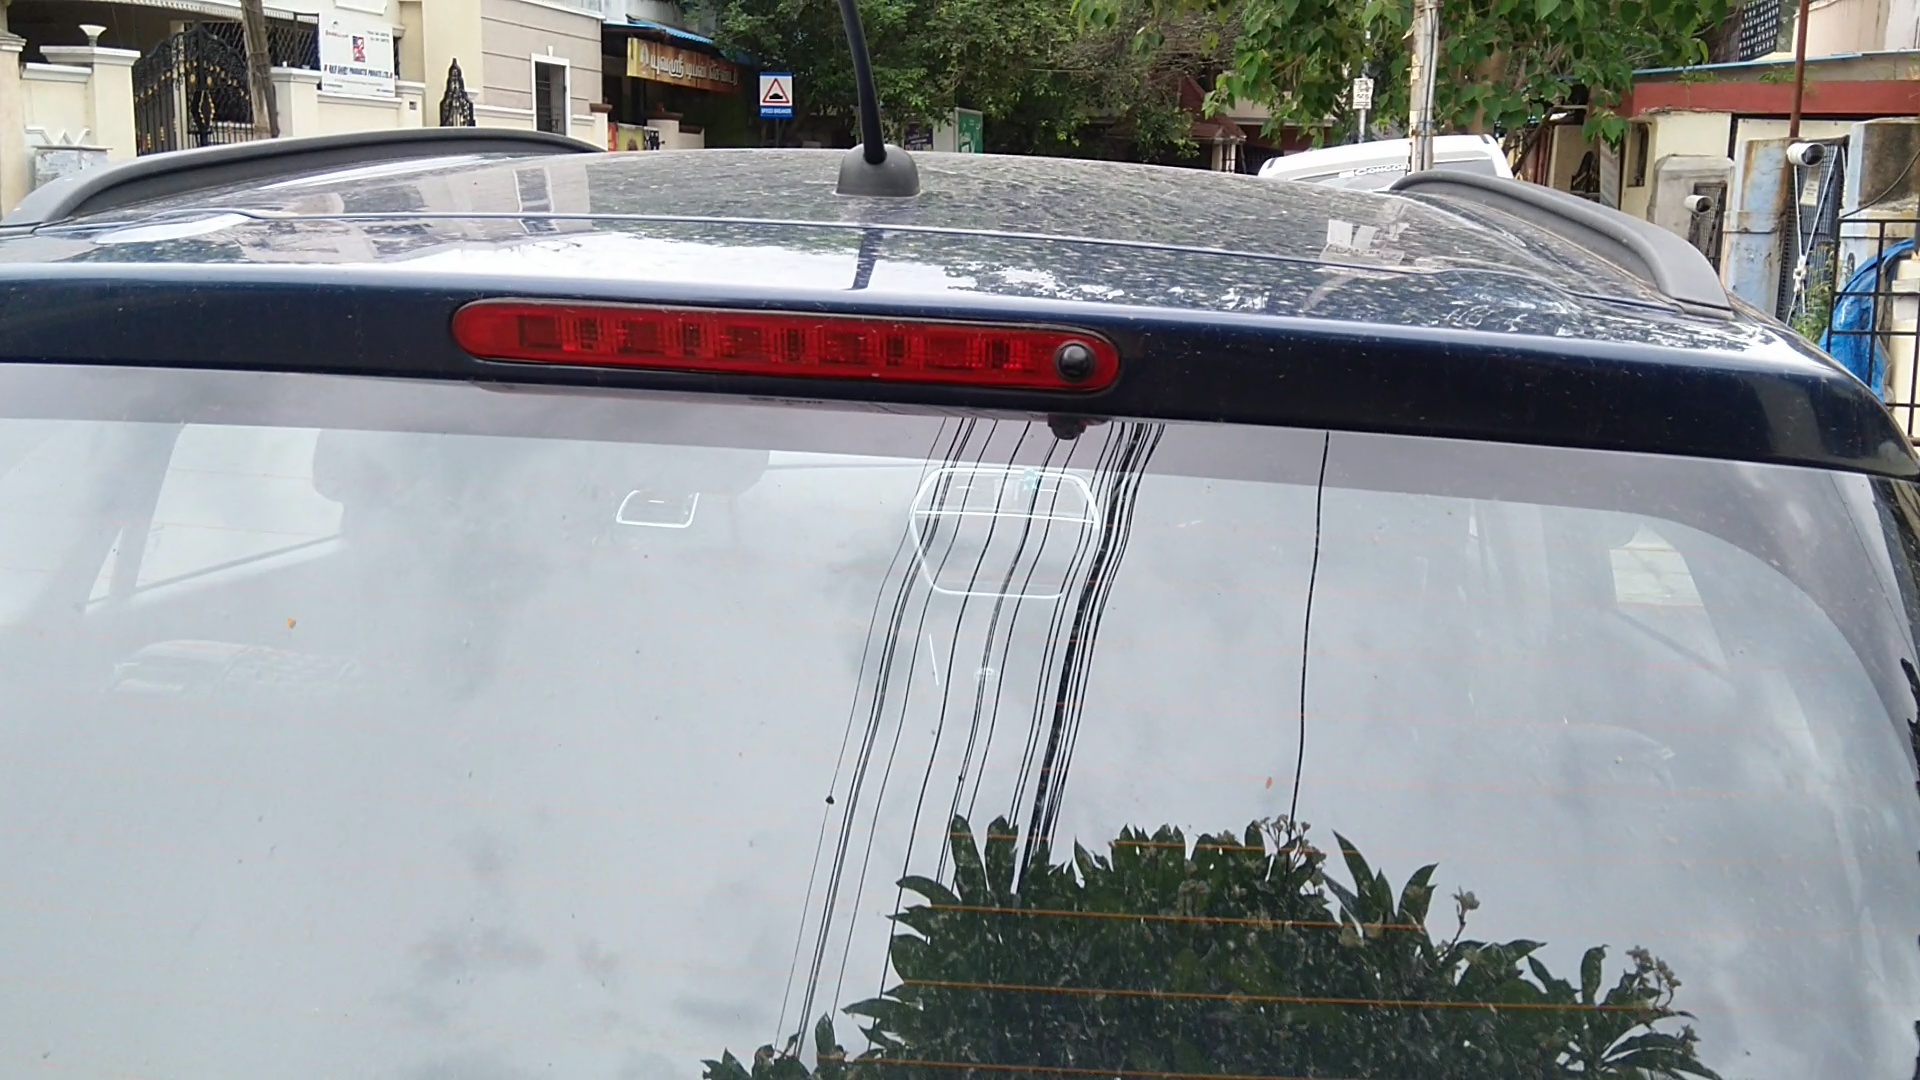rear_camera: (1029, 316, 1129, 405)
